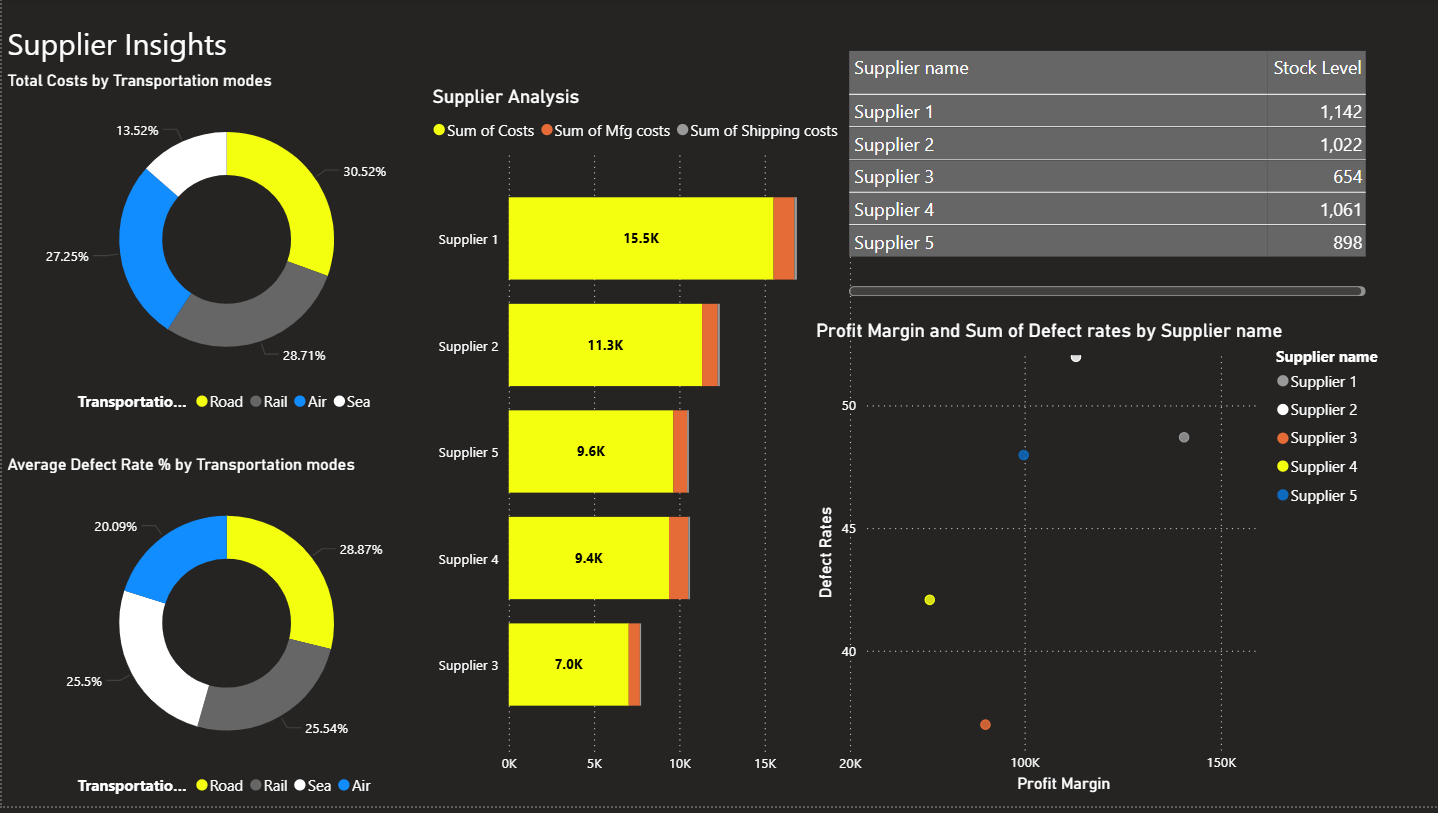

This screenshot's page, from the dashboard's own definition file:
{"tool":"powerbi","page":{"name":"Supplier","canvas":[1280,720],"ordinal":2},"visuals":[{"type":"donutChart","fields":{"Category":["supply_chain_data.Transportation modes"],"Y":["_Measures.Total Costs"]},"box":[0,65.1,400.5,313.8],"z":0},{"type":"donutChart","fields":{"Category":["supply_chain_data.Transportation modes"],"Y":["_Measures.Average Defect Rate %"]},"box":[0,406.3,400.5,313.8],"z":1000},{"type":"barChart","title":"Supplier Analysis","fields":{"Category":["supply_chain_data.Supplier name"],"Y":["Sum(supply_chain_data.Costs)","Sum(supply_chain_data.Mfg costs)","Sum(supply_chain_data.Shipping costs)"]},"box":[378.9,78.1,391.9,621.8],"z":2000},{"type":"tableEx","fields":{"Values":["supply_chain_data.Supplier name","_Measures.Stock Level"]},"box":[747.6,41.9,471.4,228.5],"z":3000},{"type":"scatterChart","title":"Profit Margin and Sum of Defect rates by Supplier name","fields":{"X":["Sum(supply_chain_data.Profit Margin)"],"Y":["Sum(supply_chain_data.Defect rates)"],"Series":["supply_chain_data.Supplier name"]},"box":[720.1,286.3,526.4,426.6],"z":4000},{"type":"textbox","box":[0,0,559.6,92.5],"z":5000}]}

Visuals, with their boxes in screenshot pixels (x1, y1, x2, y2), scaled from the page's 1280x720 canvas onto the 1438x813 screenshot:
donutChart - supply_chain_data.Transportation modes x _Measures.Total Costs: 0, 74, 450, 428
donutChart - supply_chain_data.Transportation modes x _Measures.Average Defect Rate %: 0, 459, 450, 812
"Supplier Analysis" barChart: 426, 88, 866, 790
tableEx - supply_chain_data.Supplier name x _Measures.Stock Level: 840, 47, 1369, 305
"Profit Margin and Sum of Defect rates by Supplier name" scatterChart: 809, 323, 1400, 805
textbox: 0, 0, 629, 104
